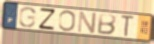B: (95, 13, 117, 36)
G: (18, 7, 37, 29)
N: (76, 10, 98, 35)
O: (58, 10, 77, 33)
T: (120, 14, 136, 37)
Z: (38, 7, 57, 30)
